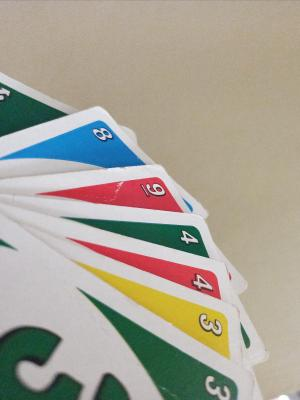green: (0, 305, 157, 400)
num_3: (191, 309, 228, 349), (197, 373, 237, 400)
num_4: (173, 269, 223, 293), (168, 230, 207, 252)
num_8: (79, 124, 126, 161)
num_9: (124, 179, 171, 206)
